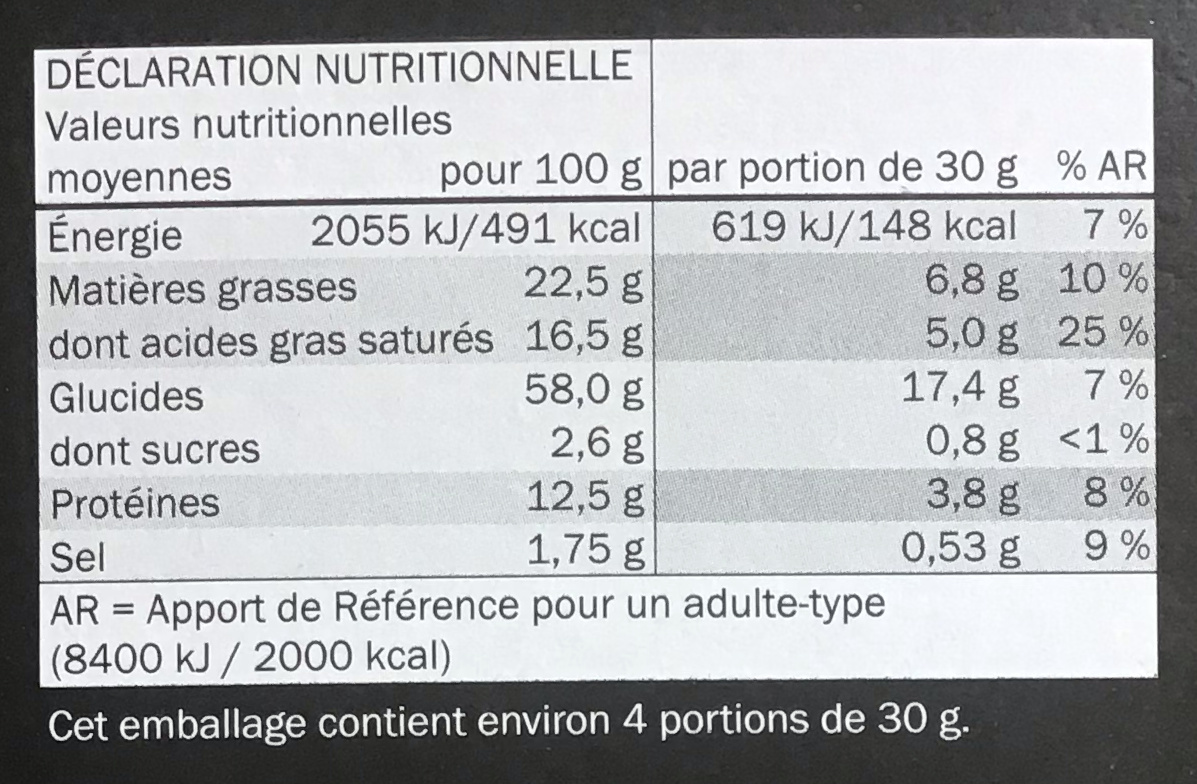column: (38, 54, 652, 572), (661, 105, 1022, 568), (1048, 103, 1152, 567)
table: (37, 44, 1165, 585)
